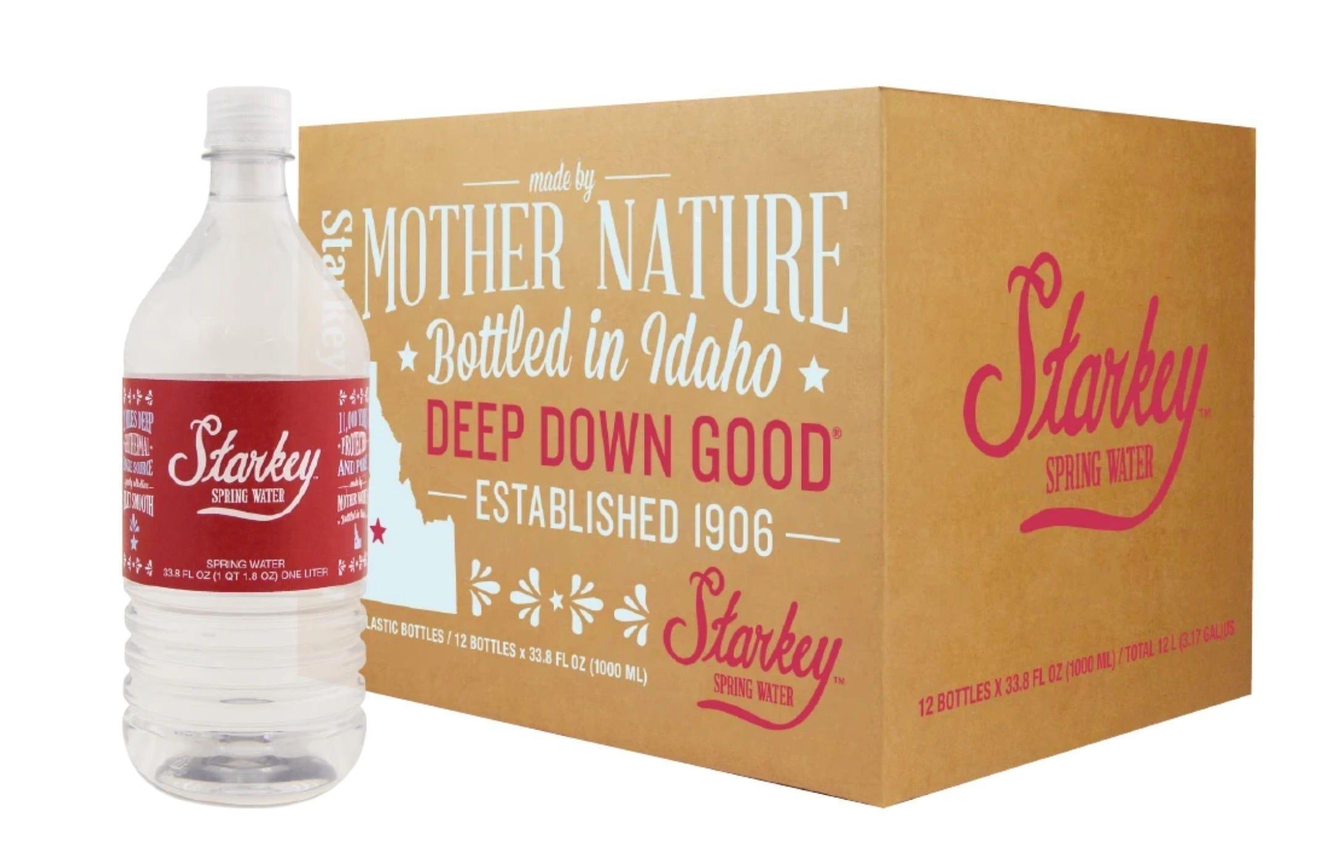bottle-plastic: (115, 76, 377, 814)
